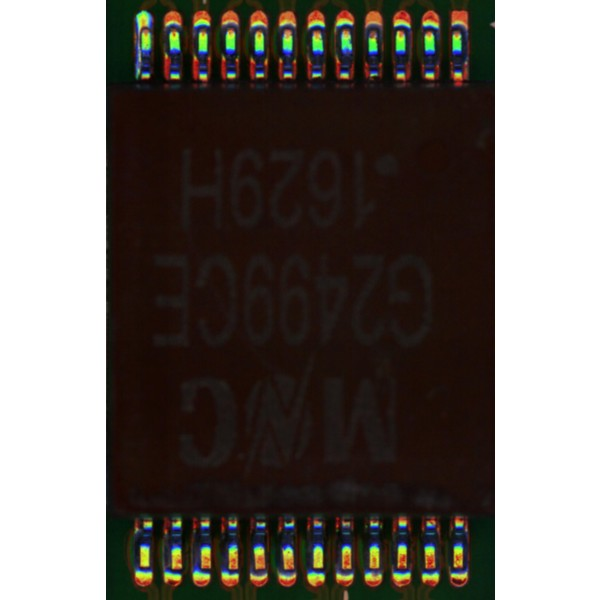Bad_podu: (140, 20, 149, 36)
Bad_qiaojiao: (136, 33, 142, 80)
